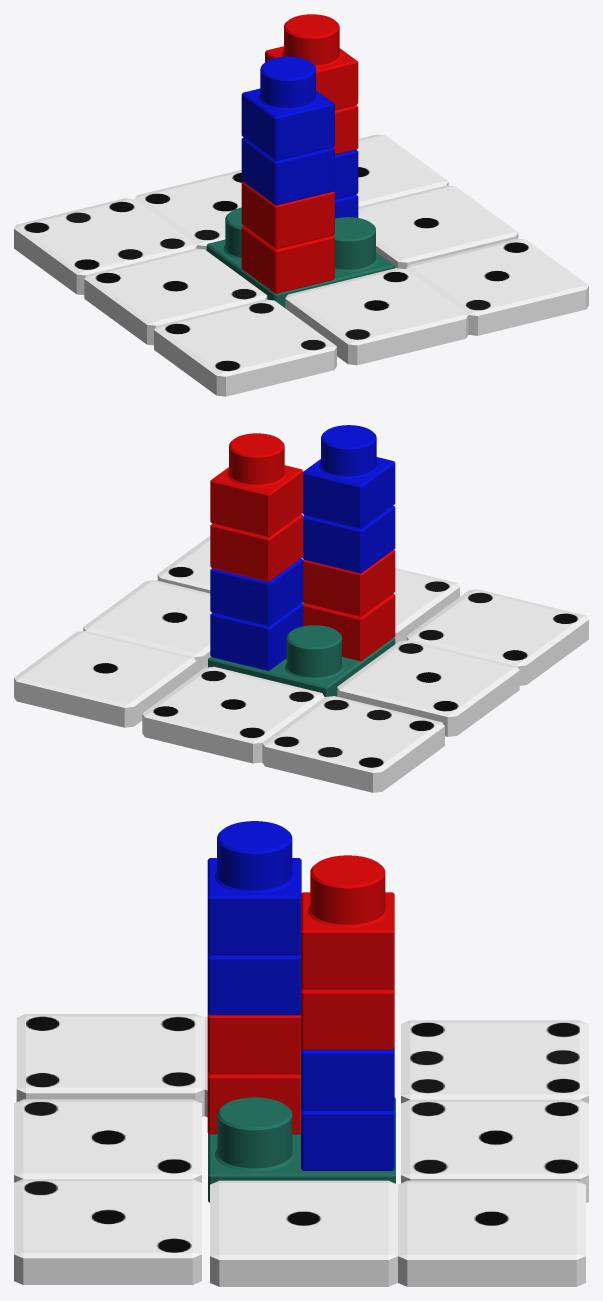
3 views of the same model, one above another, from view 1: azimuth 30°, elevation 25°; view 2: azimuth 150°, elevation 25°; view 3: azimuth 270°, elevation 25° (orthographic). The views are drawn at different scales.
Parts seen in each view (by area): view 1: Dom.015, Dom.202_low_0.003, Dom.303_low_2.001, Dom.010_low_2.001, Cube.025, Cube.026, Cube.029, Cube.027, Cube.028; view 2: Dom.303_low_2.001, Dom.202_low_0.003, Dom.010_low_2.001, Cube.029, Cube.025, Cube.028, Cube.026, Cube.027, Dom.015; view 3: Dom.010_low_2.001, Dom.015, Dom.303_low_2.001, Cube.025, Cube.029, Dom.202_low_0.003, Cube.028, Cube.026, Cube.027.
Boxes of the visible parts, left/top/right/bottom form: Dom.015: left=285, top=238, right=588, bottom=365; Dom.202_low_0.003: left=84, top=248, right=336, bottom=396; Dom.303_low_2.001: left=14, top=170, right=242, bottom=294; Dom.010_low_2.001: left=356, top=134, right=518, bottom=268; Cube.025: left=241, top=56, right=334, bottom=205; Cube.026: left=241, top=181, right=334, bottom=293; Cube.029: left=265, top=14, right=358, bottom=154; Cube.027: left=206, top=207, right=394, bottom=307; Cube.028: left=334, top=150, right=358, bottom=218; Dom.303_low_2.001: left=142, top=666, right=444, bottom=792; Dom.202_low_0.003: left=337, top=589, right=588, bottom=736; Dom.010_low_2.001: left=14, top=580, right=211, bottom=727; Cube.029: left=210, top=433, right=303, bottom=581; Cube.025: left=302, top=425, right=395, bottom=573; Cube.028: left=210, top=558, right=303, bottom=670; Cube.026: left=303, top=549, right=395, bottom=661; Cube.027: left=208, top=602, right=395, bottom=696; Dom.015: left=157, top=536, right=459, bottom=643; Dom.010_low_2.001: left=210, top=1180, right=585, bottom=1286; Dom.015: left=14, top=1099, right=201, bottom=1284; Dom.303_low_2.001: left=401, top=1020, right=588, bottom=1202; Cube.025: left=207, top=821, right=301, bottom=1015; Cube.029: left=301, top=855, right=394, bottom=1049; Dom.202_low_0.003: left=16, top=1014, right=207, bottom=1117; Cube.028: left=301, top=1048, right=394, bottom=1170; Cube.026: left=207, top=1014, right=300, bottom=1134; Cube.027: left=208, top=1097, right=395, bottom=1202.
Bounding box in the file's own units: 6.2 × 3.73 × 6.12.
Materials: 11 (6 with a texture image).
